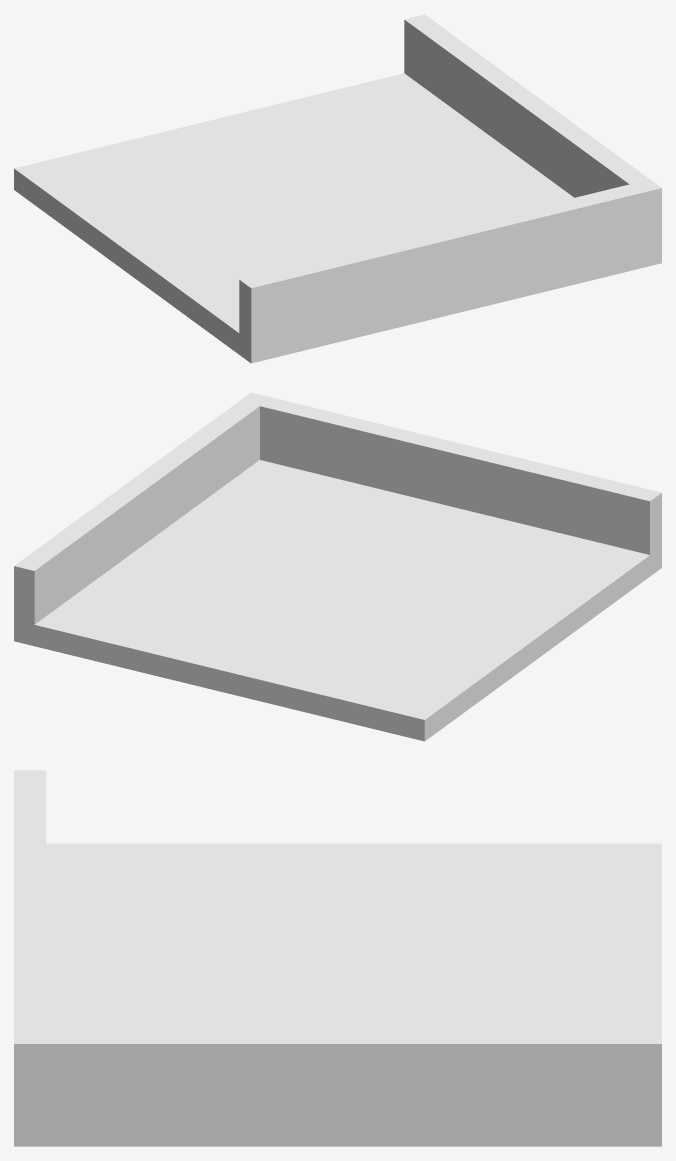
The model's file is WhiteRoof_Corner.glb.
3 views of the same model, one above another, from view 1: azimuth 30°, elevation 25°; view 2: azimuth 150°, elevation 25°; view 3: azimuth 270°, elevation 25° (orthographic). The views are drawn at different scales.
Parts seen in each view (by area): view 1: roof_flat_corner_white; view 2: roof_flat_corner_white; view 3: roof_flat_corner_white.
Part boxes in pixels (x1,y1,x2,y2): roof_flat_corner_white: (14, 14, 661, 363); roof_flat_corner_white: (14, 392, 661, 741); roof_flat_corner_white: (14, 770, 661, 1146).
Size of what is drawn, in the model's own units: 4 by 0.7 by 4.
Materials: 1 (1 with a texture image).
